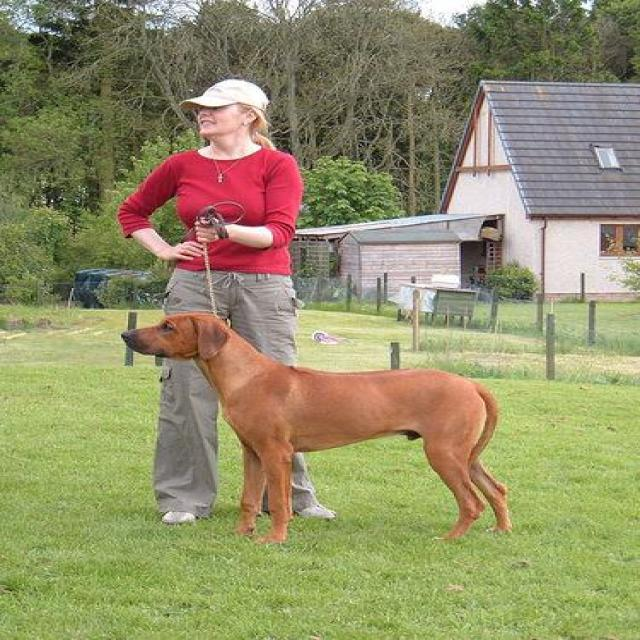rhodesian_ridgeback: (116, 310, 512, 544)
